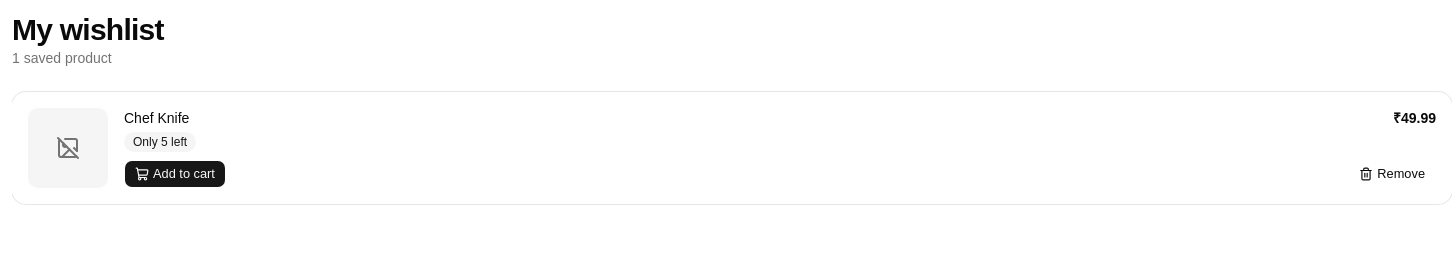
Test: WishlistPage › removes a product from the wishlist
Click the button with aria-label "Remove Chef Knife from your wishlist": {"x": 1392, "y": 174} [1348,160,1436,188]
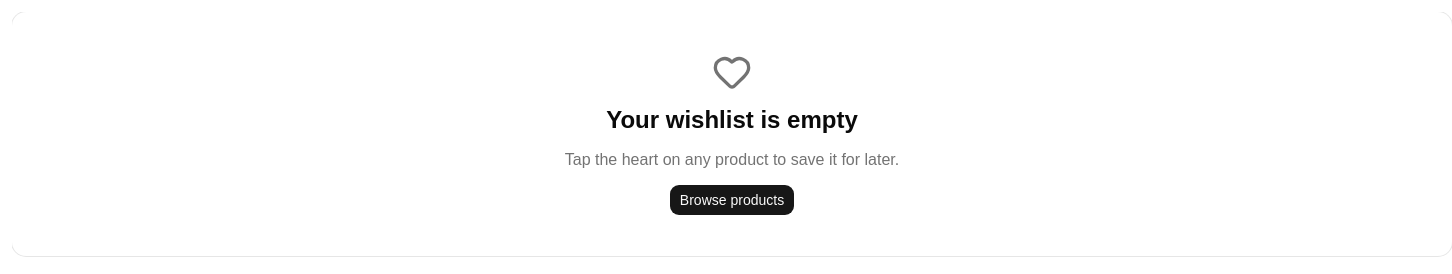
Expected: the heading "Your wishlist is empty" is shown, [606,104,858,136]
